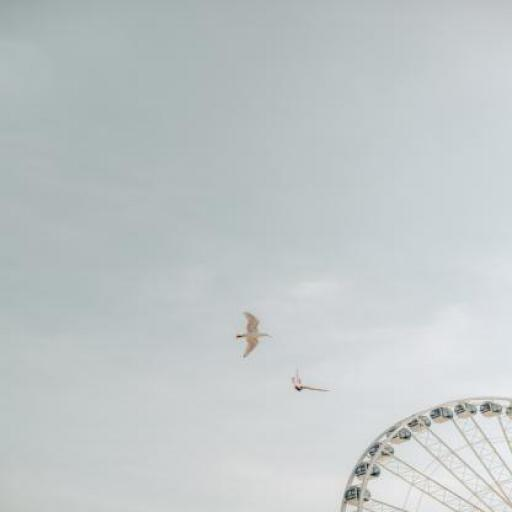bird: (232, 312, 276, 360), (289, 371, 329, 395)
